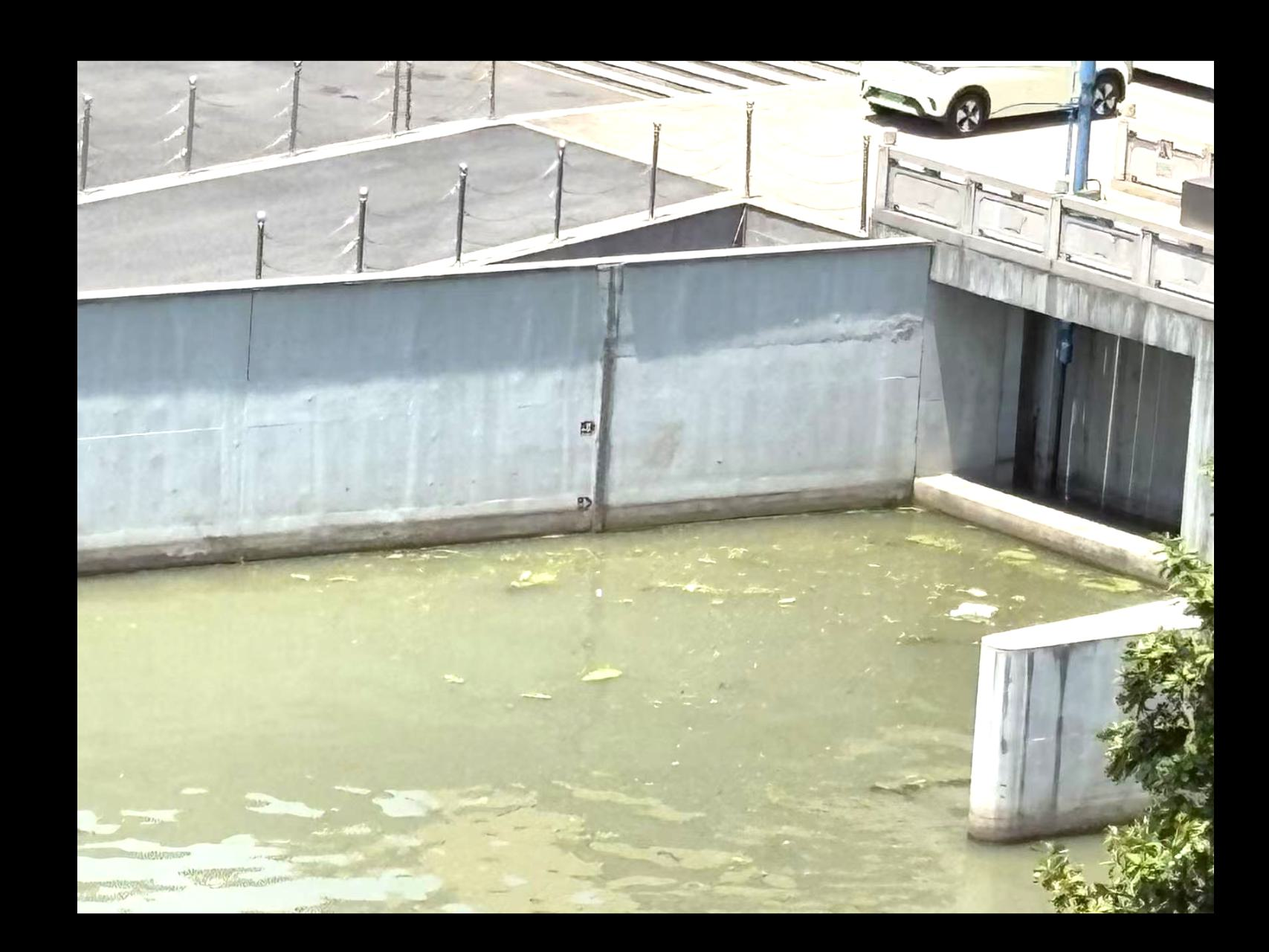Other: (1079, 579, 1142, 592), (513, 571, 556, 588), (579, 666, 622, 681), (908, 536, 958, 547), (682, 583, 719, 594), (998, 550, 1036, 559), (729, 545, 746, 559), (523, 692, 550, 699), (446, 674, 465, 683), (745, 587, 775, 592)
Plastic wastes: (947, 602, 1003, 618)
